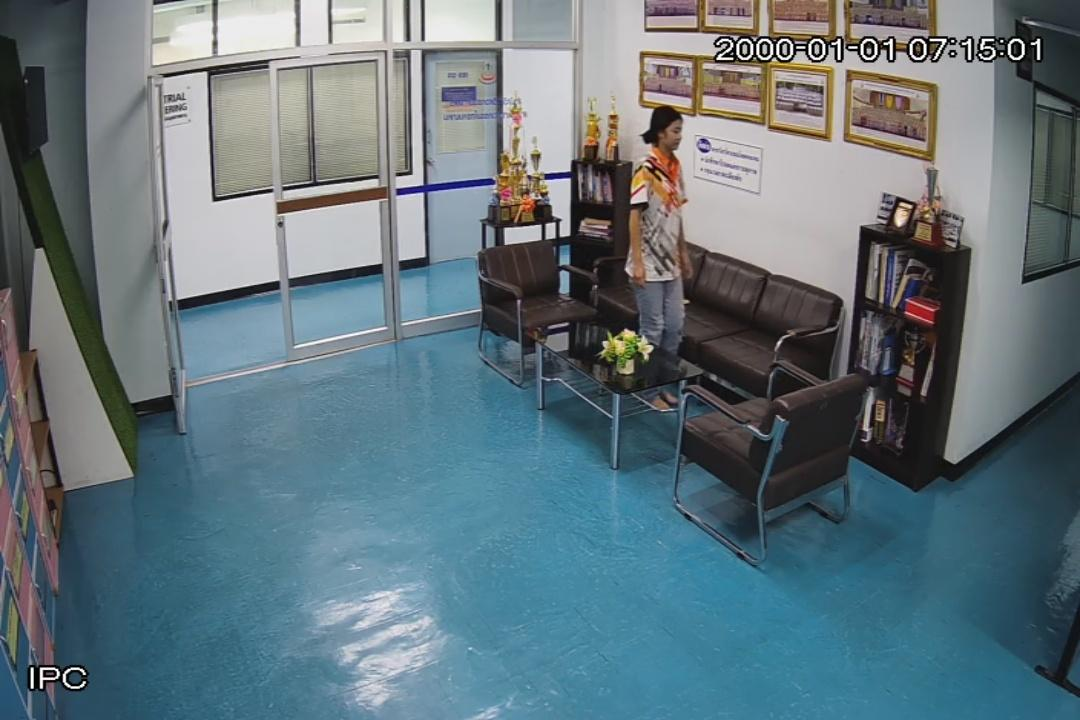normal: (630, 96, 690, 368)
